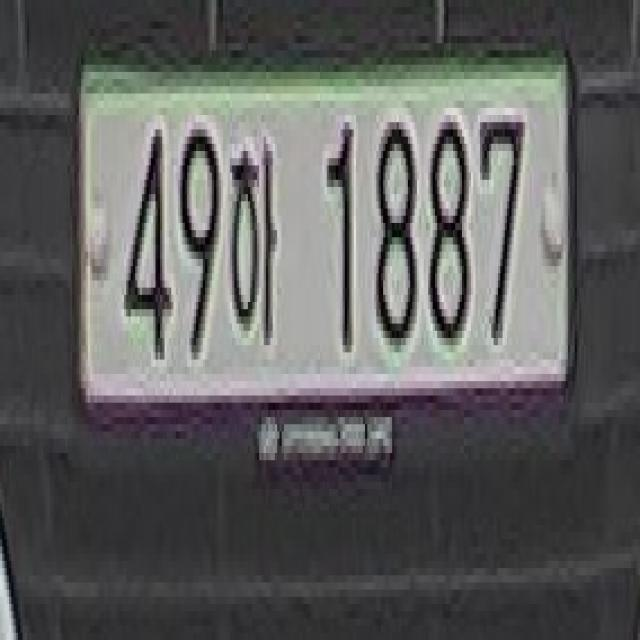1: (324, 108, 367, 363)
4: (122, 118, 174, 378)
7: (479, 106, 532, 366)
8: (376, 108, 420, 377), (428, 111, 473, 361)
9: (177, 110, 224, 376)
ha: (226, 100, 281, 376)
license_plate: (70, 46, 578, 416)
